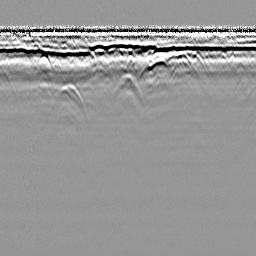cavity: (111, 70, 145, 104)
